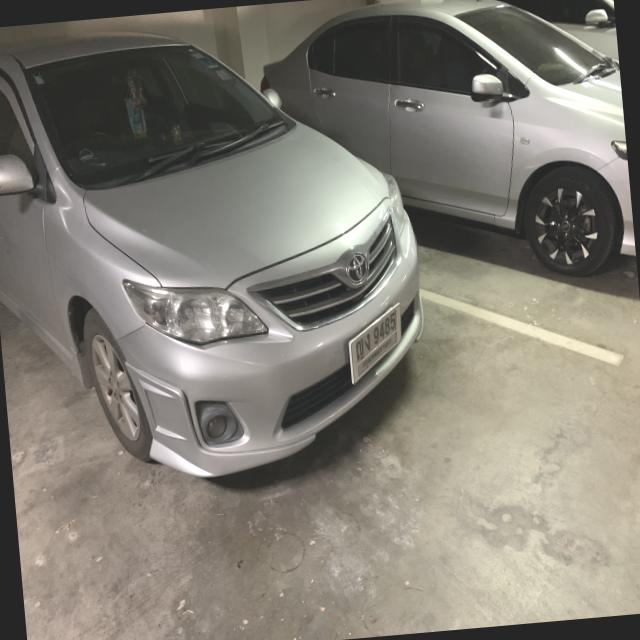license_plate: (342, 298, 409, 388)
